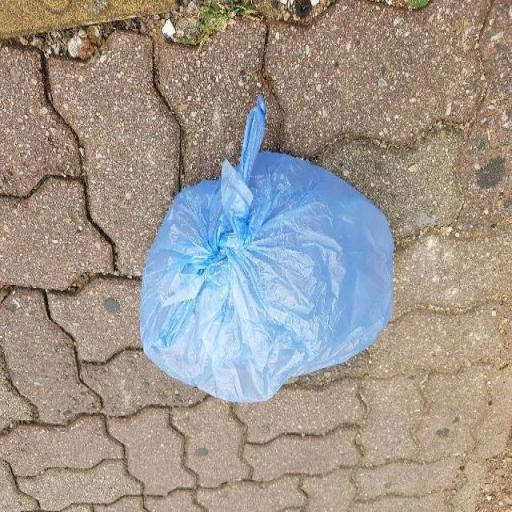plastic-bag: (134, 102, 396, 404)
